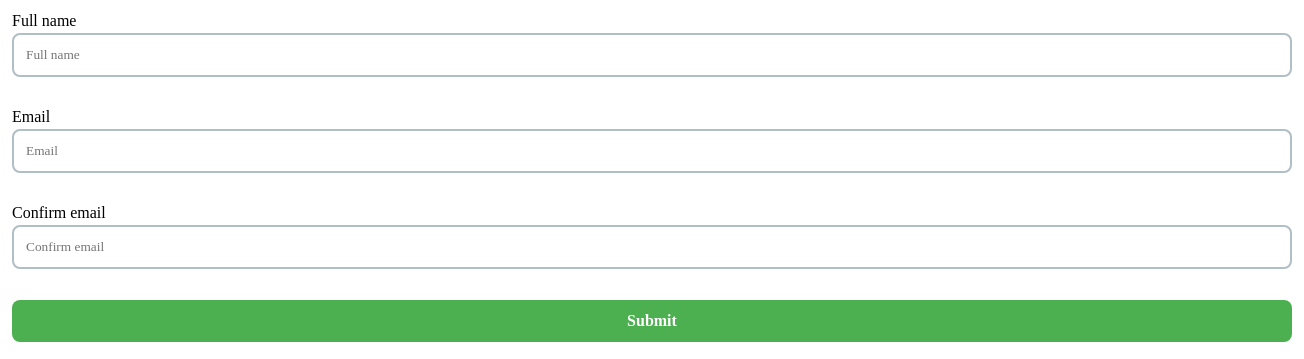
InviteModalForm › shows email should match validation
Type "test@email.com" into the field with placeholder "Email".
click(652, 151); type("test@email.com")  # box [12,129,1292,173]
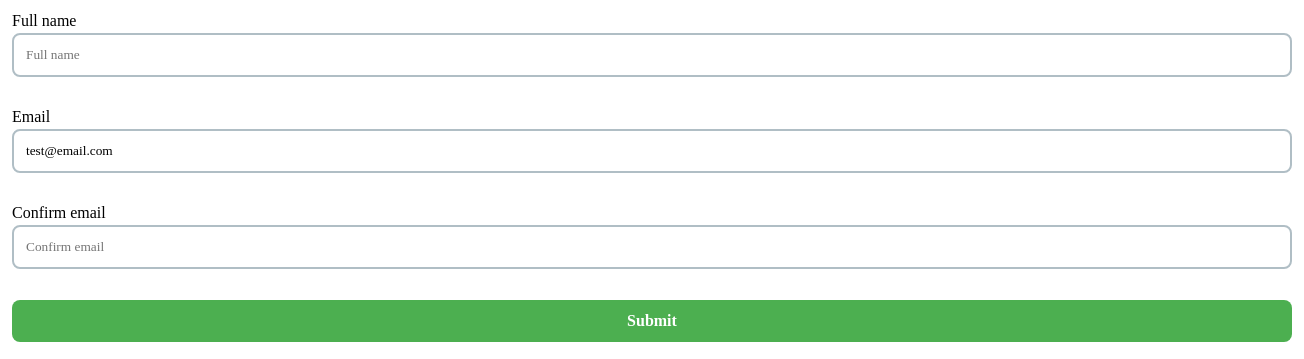
Type "different@email.com" into the field with placeholder "Confirm email".
click(652, 247); type("different@email.com")  # box [12,225,1292,269]
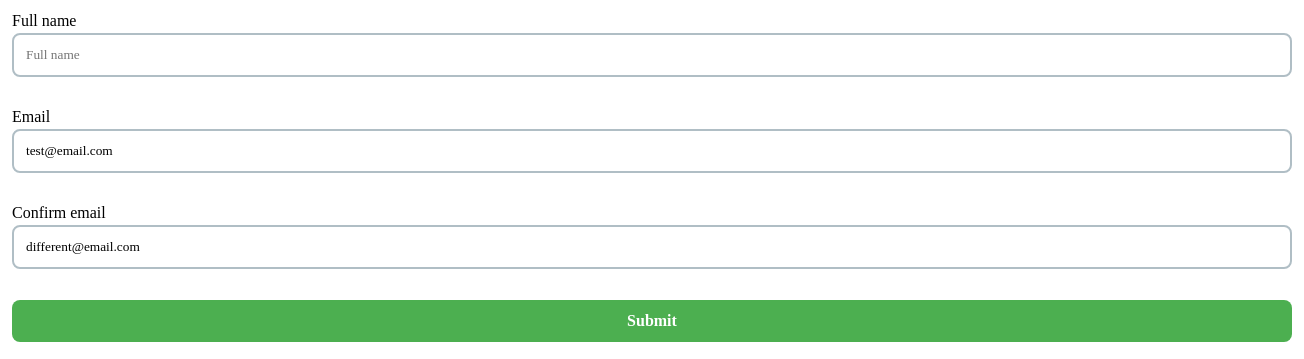
Click the button "Submit".
click(652, 321)  # box [12,300,1292,342]
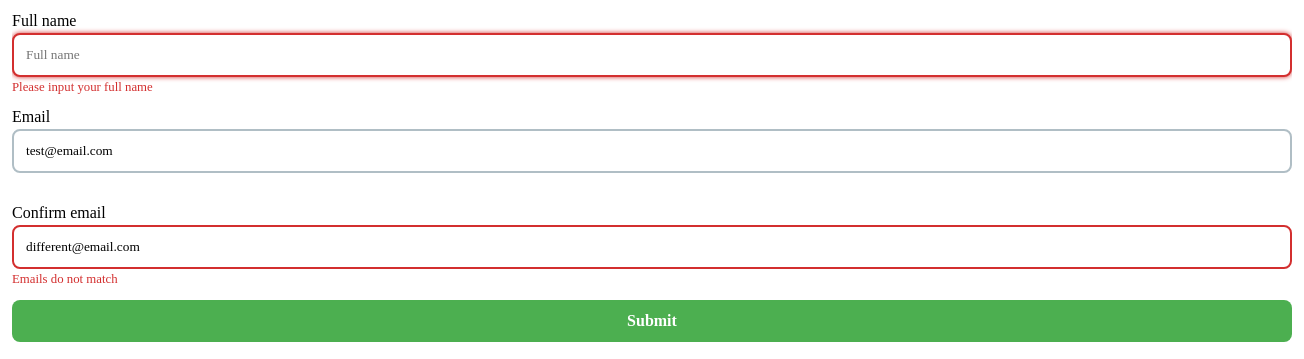
Expected: the text "Emails do not match" is shown, [12,272,118,286]
